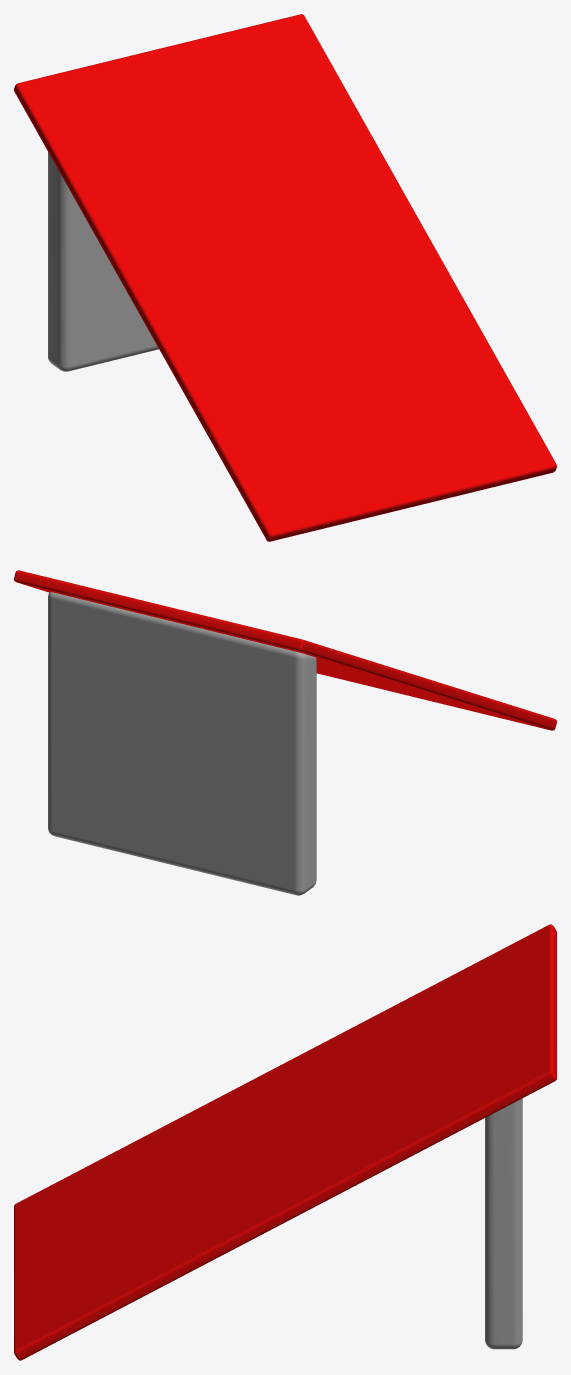
The model's file is rampa.fbx.
3 renders of one model, top to bottom at view 1: azimuth 30°, elevation 25°; view 2: azimuth 150°, elevation 25°; view 3: azimuth 270°, elevation 25°, orthographic. The views are drawn at different scales.
Parts seen in each view (by area): view 1: Rampa; view 2: Rampa; view 3: Rampa.
Boxes of the visible parts, <box> form: Rampa: <box>14,14,556,541</box>; Rampa: <box>14,570,556,895</box>; Rampa: <box>14,924,556,1360</box>.
Bounding box in the file's own units: 97.55 × 88.57 × 150.
